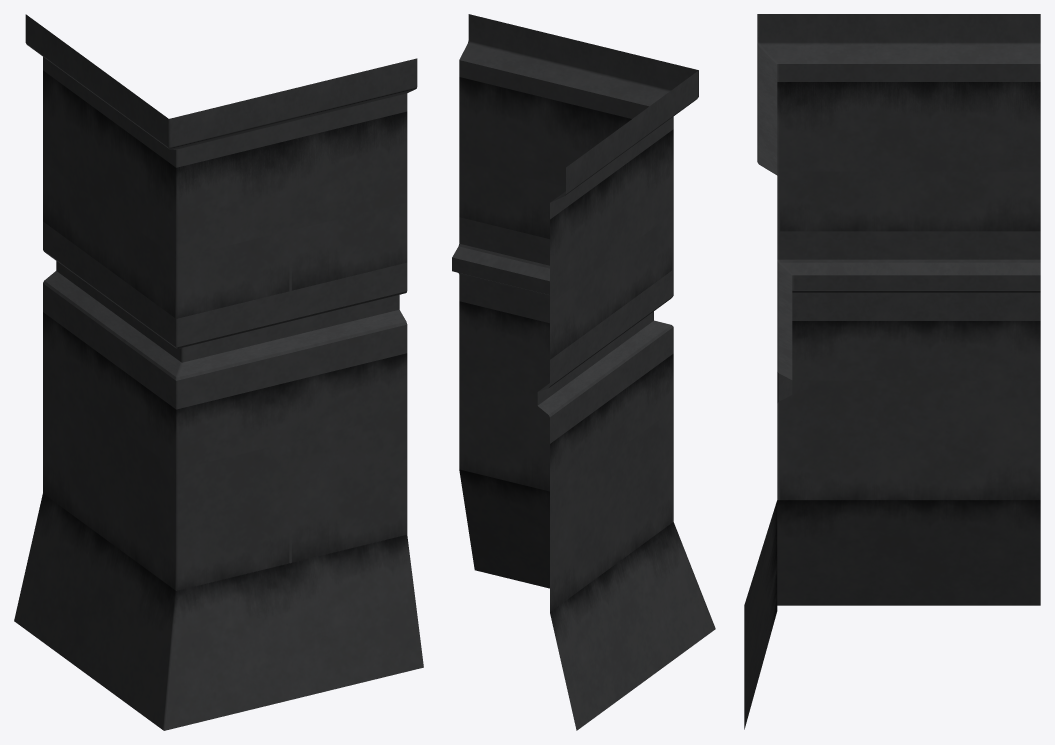
Rendered from M_Wall_Convex_Corner_4x10_v4.fbx.
3 renders of one model, left to right at view 1: azimuth 30°, elevation 25°; view 2: azimuth 150°, elevation 25°; view 3: azimuth 270°, elevation 25°, orthographic. The views are drawn at different scales.
Parts seen in each view (by area): view 1: Wall_Corner_Convex_4x10_v4; view 2: Wall_Corner_Convex_4x10_v4; view 3: Wall_Corner_Convex_4x10_v4.
Part boxes in pixels (x1=…): Wall_Corner_Convex_4x10_v4: x1=14, y1=14, x2=423, y2=730; Wall_Corner_Convex_4x10_v4: x1=452, y1=14, x2=715, y2=730; Wall_Corner_Convex_4x10_v4: x1=744, y1=14, x2=1040, y2=729.
Size of the model in its own units: 450 by 1000 by 450.
